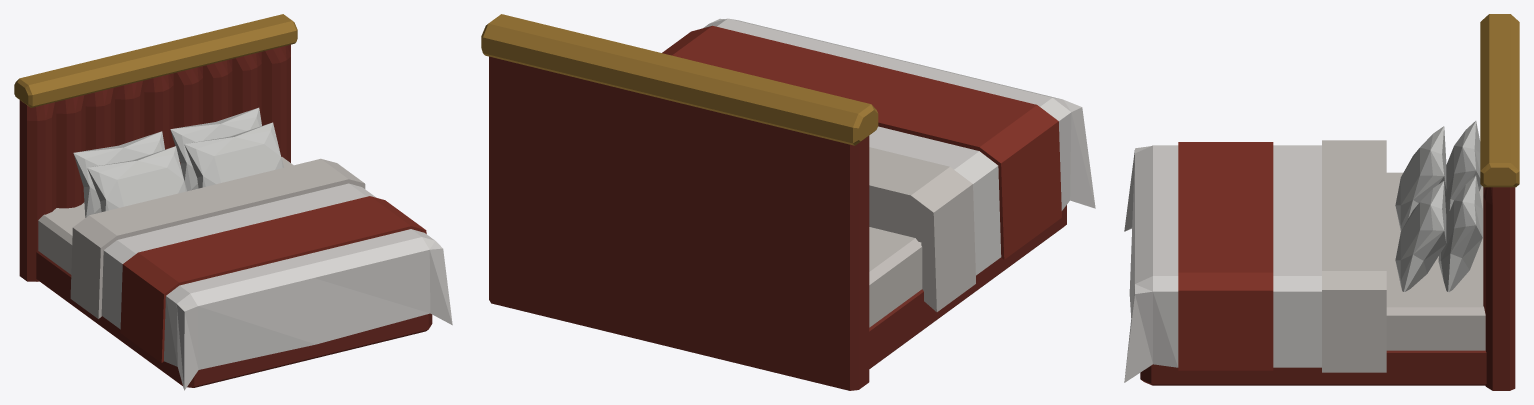
Rendered from hotel-king-bed-c15761.glb.
The picture shows the model from 3 angles, left to right: view 1: azimuth 30°, elevation 25°; view 2: azimuth 150°, elevation 25°; view 3: azimuth 270°, elevation 25°; orthographic projection. The views are drawn at different scales.
Parts seen in each view (by area): view 1: bed, pillow-set; view 2: bed; view 3: bed, pillow-set.
Part boxes in pixels (<box>): bed: <box>14,14,452,390</box>; pillow-set: <box>73,107,283,217</box>; bed: <box>481,14,1095,390</box>; bed: <box>1124,14,1519,390</box>; pillow-set: <box>1395,121,1482,291</box>.
Size of the model in its own units: 2 by 1.4 by 2.2.
